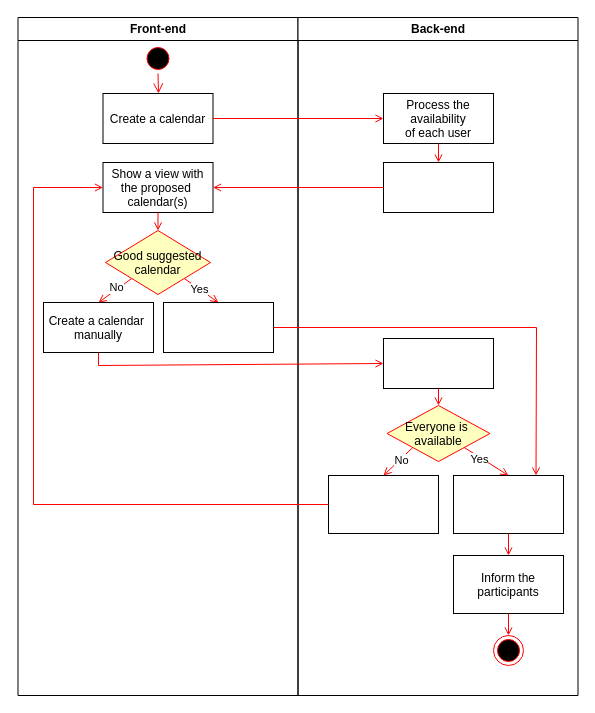
Image size: 595x713. Some labels were removed from this diagram. Here are the shapes that lost their labels. From the top down, the box of each, then its label:
(382, 162, 494, 212): Create suggested calendar(s) for the rehearsals
(162, 302, 274, 352): Accept a calendar
(382, 338, 494, 388): Get the availability of users for the time slots
(328, 474, 438, 534): Create suggested calendar(s)
(452, 474, 564, 534): Save the calendar
